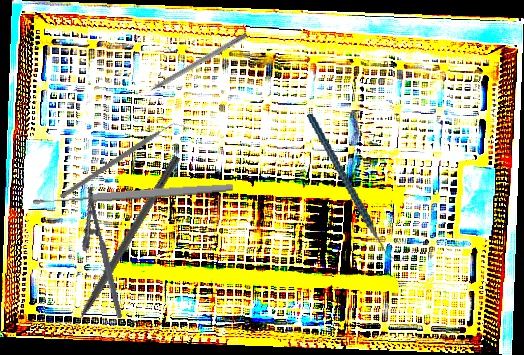Chopper: (59, 90, 186, 233), (307, 102, 402, 274)
Hook Surgical: (59, 153, 182, 348), (135, 30, 249, 101)
Needle Holder: (68, 186, 124, 323)
Surgical Spoon: (32, 182, 234, 207)
